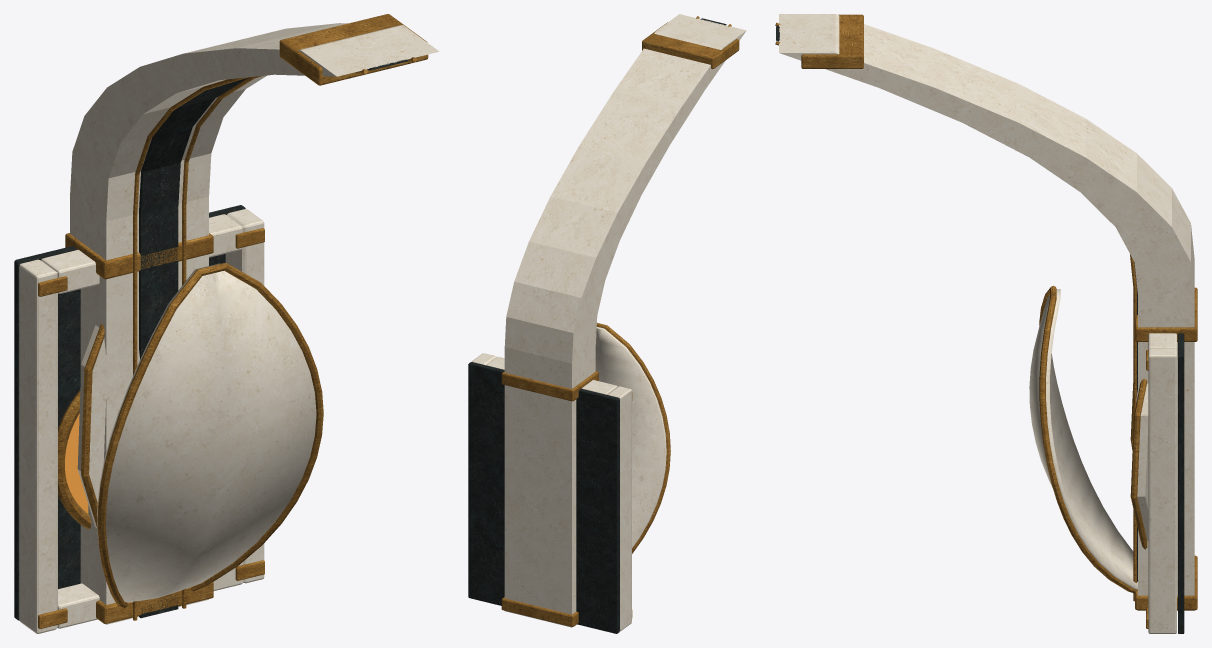
File: hollow-environment-kit.glb
The picture shows the model from 3 angles, left to right: view 1: azimuth 30°, elevation 25°; view 2: azimuth 150°, elevation 25°; view 3: azimuth 270°, elevation 25°; orthographic projection. The views are drawn at different scales.
Visible parts, largest first — view 1: HS_CradlePetal_HS_Ivory, HS_Rib_HS_Ivory, HS_WallCassette_HS_Ivory, HS_Rib_HS_Brass, HS_Rib_HS_Ceramic, HS_WallCassette_HS_Ceramic, HS_CradlePetal_HS_Brass, HS_Petal_HS_Ivory, HS_WallCassette_HS_Brass, HS_Petal_HS_Brass, HS_Lens_HS_Brass, HS_Lens_HS_Amber; view 2: HS_Rib_HS_Ivory, HS_WallCassette_HS_Ceramic, HS_CradlePetal_HS_Ivory, HS_Rib_HS_Brass, HS_WallCassette_HS_Ivory, HS_CradlePetal_HS_Brass; view 3: HS_Rib_HS_Ivory, HS_WallCassette_HS_Ivory, HS_CradlePetal_HS_Ivory, HS_Rib_HS_Brass, HS_CradlePetal_HS_Brass, HS_WallCassette_HS_Ceramic, HS_Petal_HS_Brass, HS_Petal_HS_Ivory.
Part boxes in pixels (box(x1,y1,x2,y2)): HS_CradlePetal_HS_Ivory: box(97, 263, 316, 602); HS_Rib_HS_Ivory: box(70, 23, 439, 624); HS_WallCassette_HS_Ivory: box(19, 209, 264, 633); HS_Rib_HS_Brass: box(65, 14, 428, 623); HS_Rib_HS_Ceramic: box(139, 59, 408, 618); HS_WallCassette_HS_Ceramic: box(14, 205, 245, 620); HS_CradlePetal_HS_Brass: box(97, 262, 323, 607); HS_Petal_HS_Ivory: box(77, 325, 139, 527); HS_WallCassette_HS_Brass: box(38, 228, 264, 628); HS_Petal_HS_Brass: box(81, 324, 104, 527); HS_Lens_HS_Brass: box(58, 390, 91, 529); HS_Lens_HS_Amber: box(65, 413, 88, 513); HS_Rib_HS_Ivory: box(504, 14, 746, 627); HS_WallCassette_HS_Ceramic: box(468, 362, 619, 633); HS_CradlePetal_HS_Ivory: box(595, 327, 666, 547); HS_Rib_HS_Brass: box(501, 16, 739, 626); HS_WallCassette_HS_Ivory: box(472, 353, 631, 631); HS_CradlePetal_HS_Brass: box(596, 323, 670, 553); HS_Rib_HS_Ivory: box(779, 14, 1194, 610); HS_WallCassette_HS_Ivory: box(1148, 333, 1176, 633); HS_CradlePetal_HS_Ivory: box(1029, 289, 1137, 589); HS_Rib_HS_Brass: box(775, 14, 1197, 610); HS_CradlePetal_HS_Brass: box(1039, 285, 1137, 593); HS_WallCassette_HS_Ceramic: box(1178, 333, 1184, 633); HS_Petal_HS_Brass: box(1130, 378, 1147, 549); HS_Petal_HS_Ivory: box(1136, 383, 1148, 540).
Size of the model in its own units: 4 by 12.26 by 8.23.
4 materials, 3 textured.
